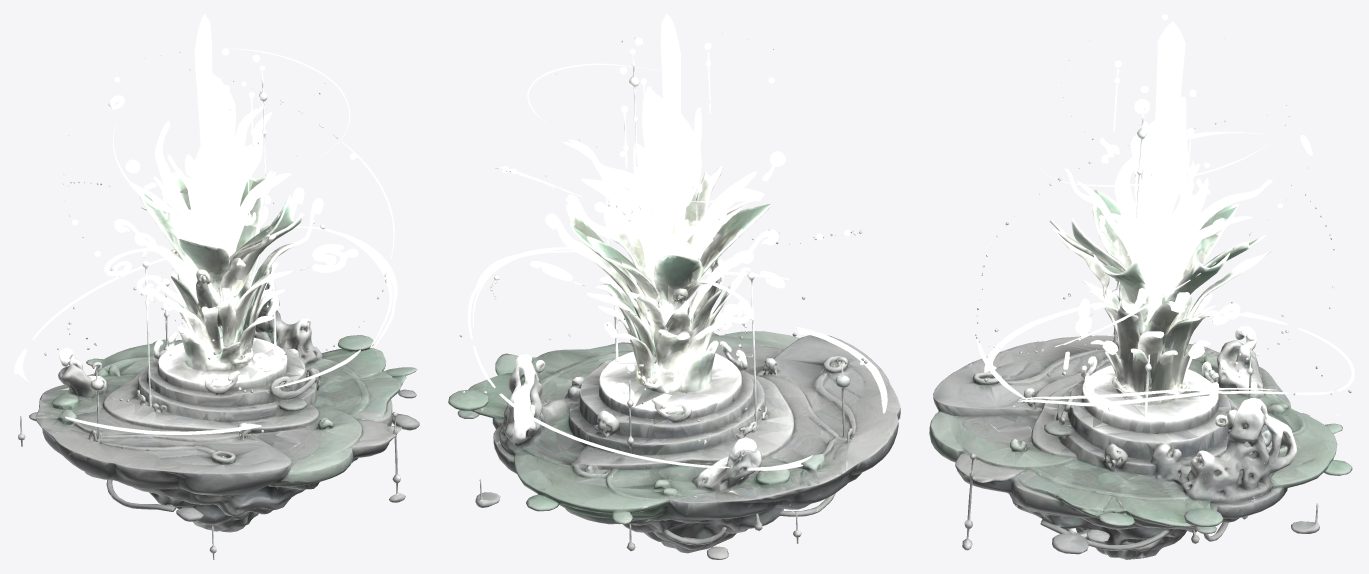
File: house02.glb
The picture shows the model from 3 angles, left to right: view 1: azimuth 30°, elevation 25°; view 2: azimuth 150°, elevation 25°; view 3: azimuth 270°, elevation 25°; orthographic projection. The views are drawn at different scales.
Bounding box in the file's own units: 0.904 × 1.22 × 0.8814.
Materials: 3 (3 with a texture image).
